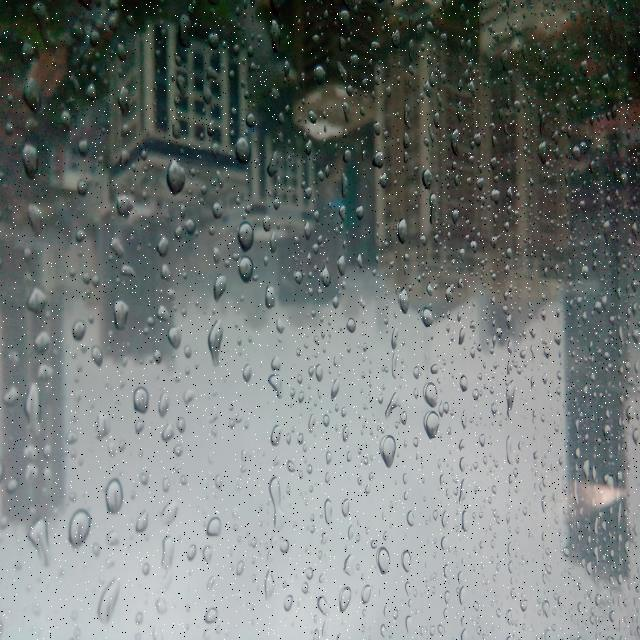raindrop: (156, 146, 198, 204), (198, 307, 232, 376), (90, 568, 126, 632), (26, 514, 60, 574), (61, 502, 98, 555), (98, 468, 128, 530), (228, 211, 258, 271), (106, 285, 140, 337), (222, 133, 255, 181), (17, 134, 50, 180), (16, 68, 46, 118), (263, 470, 287, 531), (227, 252, 261, 294), (374, 424, 402, 474), (22, 276, 54, 318), (109, 182, 140, 225), (123, 379, 159, 416), (391, 198, 417, 249), (206, 262, 232, 312), (418, 403, 446, 448), (62, 312, 90, 355), (258, 276, 280, 324), (158, 530, 181, 574), (371, 538, 397, 576), (418, 376, 443, 414), (132, 502, 155, 542), (420, 152, 440, 197), (166, 319, 190, 354), (394, 278, 416, 316), (332, 582, 357, 614), (200, 514, 228, 542), (263, 372, 287, 404), (31, 324, 52, 360), (446, 120, 464, 162), (308, 58, 330, 91), (504, 374, 520, 419), (416, 304, 438, 336), (202, 596, 222, 630), (290, 258, 311, 290), (315, 261, 334, 296), (268, 414, 284, 453), (158, 417, 178, 446), (332, 250, 349, 282), (371, 147, 388, 176), (271, 314, 290, 339)
